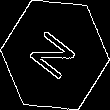N_SE: (26, 24, 84, 86)
